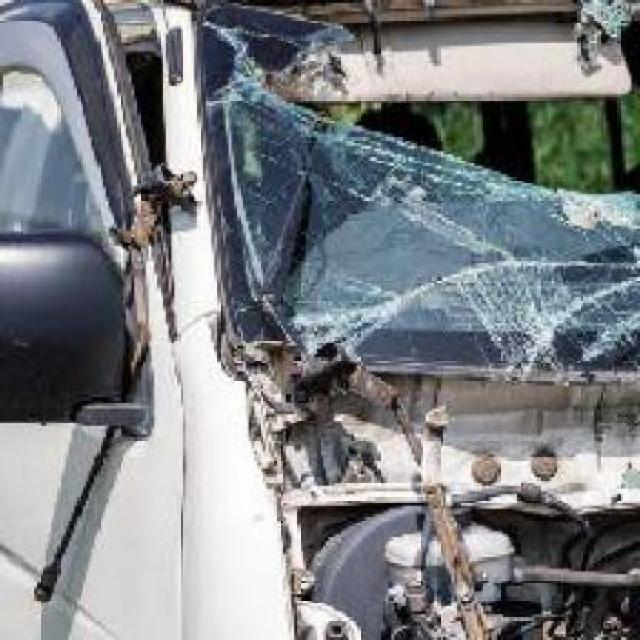damaged-windscreen: (181, 0, 638, 392)
